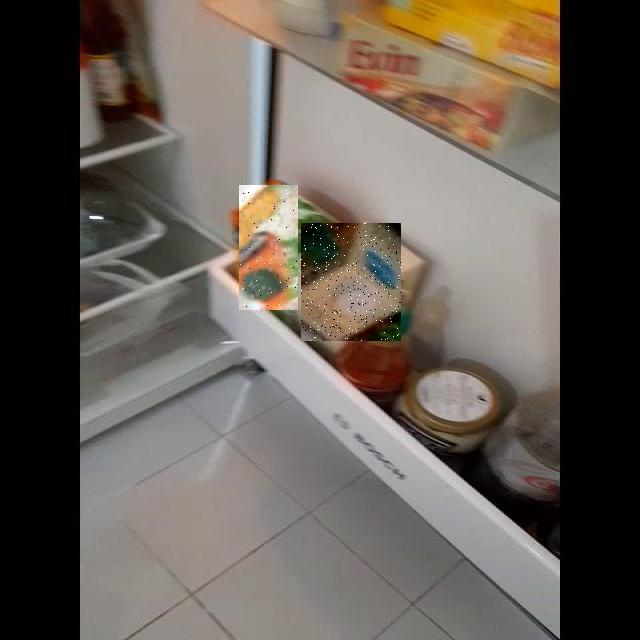Juice: (239, 185, 298, 310)
Milk: (301, 223, 401, 341)
